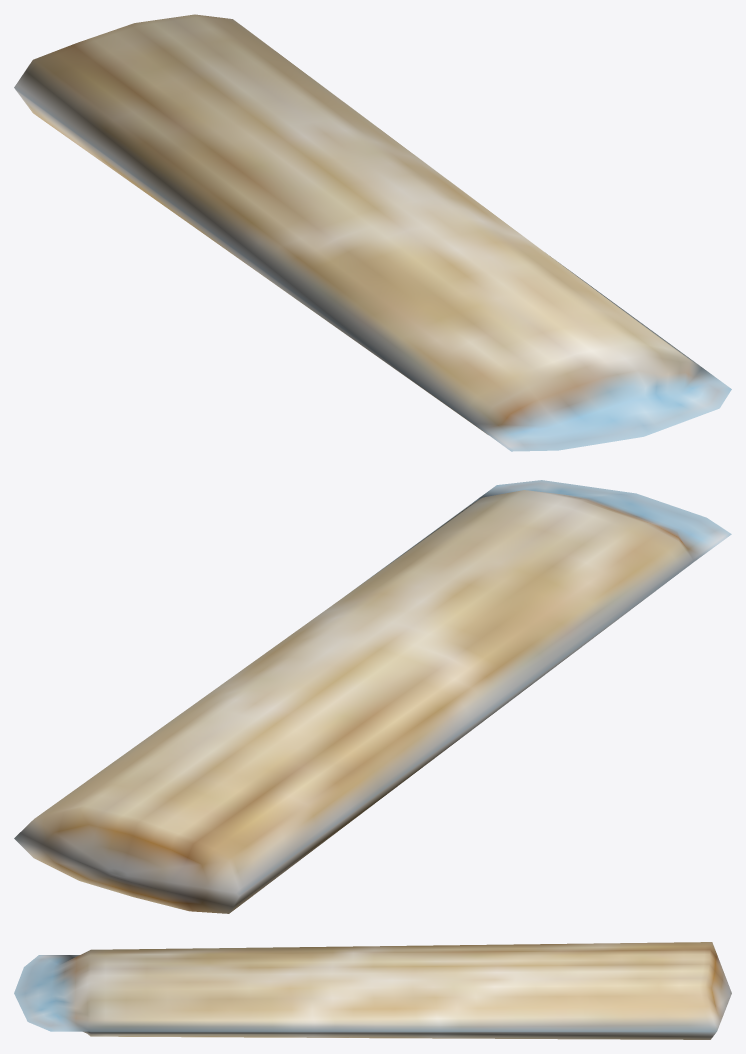
File: jsf_Rod_01_Set.fbx
3 renders of one model, top to bottom at view 1: azimuth 30°, elevation 25°; view 2: azimuth 150°, elevation 25°; view 3: azimuth 270°, elevation 25°, orthographic. The views are drawn at different scales.
Visible parts, largest first — view 1: jsf_Rod_01_Set; view 2: jsf_Rod_01_Set; view 3: jsf_Rod_01_Set.
Part boxes in pixels (x1=…): jsf_Rod_01_Set: x1=14, y1=14, x2=731, y2=451; jsf_Rod_01_Set: x1=14, y1=480, x2=731, y2=913; jsf_Rod_01_Set: x1=14, y1=942, x2=731, y2=1039.
Size of the model in its own units: 5.67 by 1.8 by 22.49.
